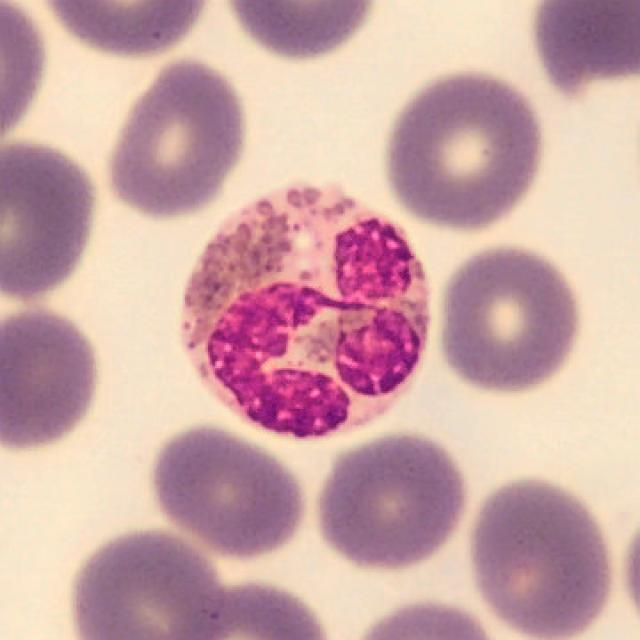Eosinofilo: (180, 181, 432, 441)
